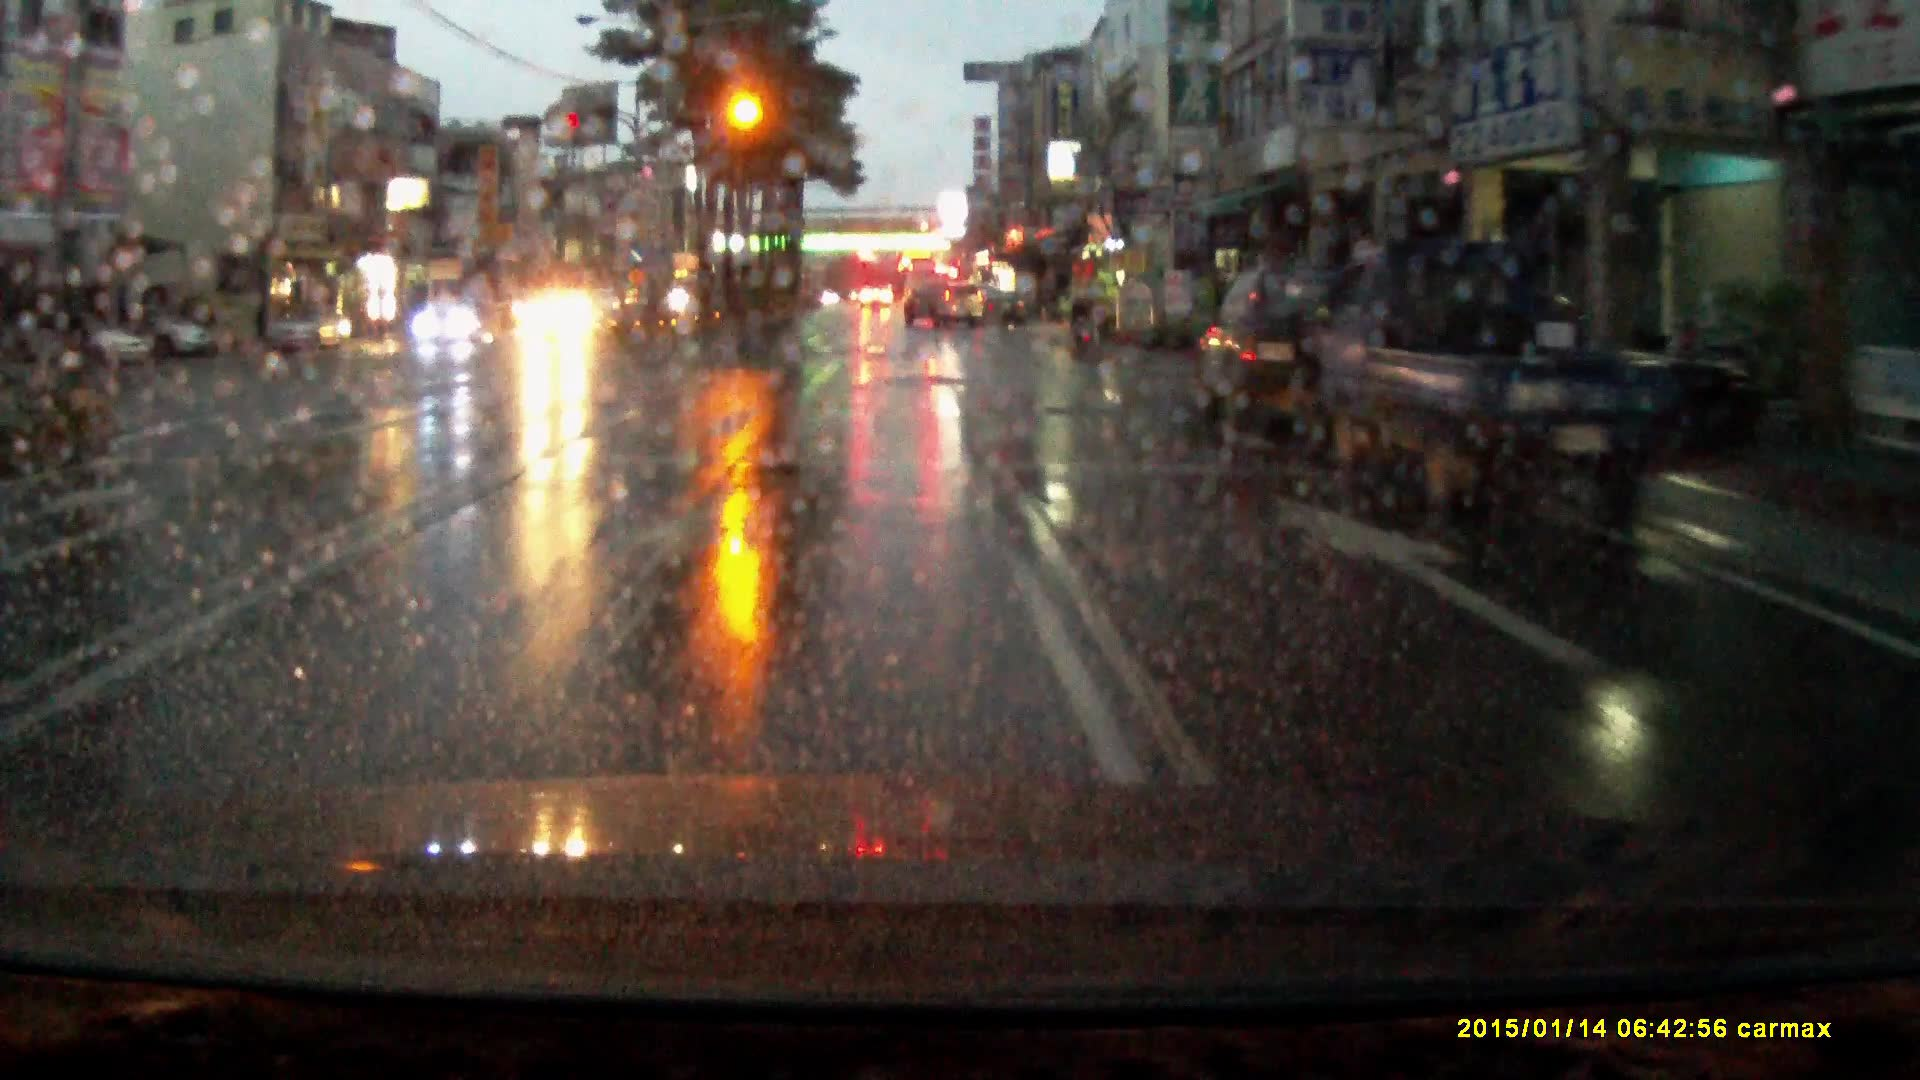vehicle: (1329, 235, 1697, 520), (1200, 258, 1346, 442), (17, 307, 133, 372), (524, 286, 603, 352), (268, 299, 353, 355), (902, 278, 984, 328), (154, 305, 219, 359), (413, 298, 485, 345), (982, 289, 1029, 328), (903, 258, 940, 307), (858, 281, 895, 309)
